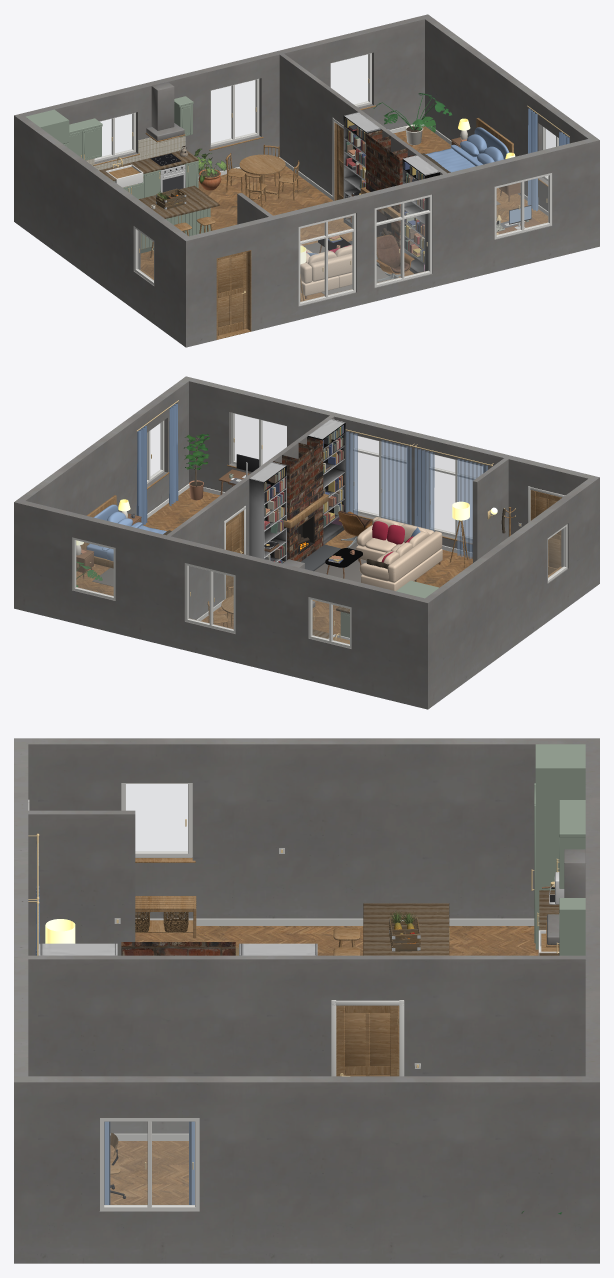
The model's file is cozy-house.glb.
The picture shows the model from 3 angles, top to bottom: view 1: azimuth 30°, elevation 25°; view 2: azimuth 150°, elevation 25°; view 3: azimuth 270°, elevation 25°; orthographic projection. The views are drawn at different scales.
Visible parts, largest first — view 1: SM_Walls_Exterior_Skin, SM_Walls_Plaster, SM_Window_Glass, SM_Window_Frames, SM_Floor_Herringbone, SM_Fireplace, INT_Door_Front_Oak, SM_Kitchen_UpperCabinets, SM_Sofa_L_Boucle, SM_Kitchen_Island_ButcherBlock, SM_Bed_Bedding_Layered, SM_Bookshelf_South_Oak (+19 smaller); view 2: SM_Walls_Exterior_Skin, SM_Walls_Plaster, SM_Window_Glass, SM_Curtains_And_Rods, SM_Window_Frames, SM_Fireplace, SM_Floor_Herringbone, SM_Sofa_L_Boucle, SM_Bookshelf_North_Oak, SM_Bookshelf_South_Oak, SM_Bookshelf_South_Oak_Books_Static, SM_Bookshelf_North_Oak_Books_Static (+11 smaller); view 3: SM_Walls_Plaster, SM_Walls_Exterior_Skin, SM_Window_Glass, SM_Floor_Herringbone, SM_Fridge_TallUnit, SM_Kitchen_UpperCabinets, INT_Door_Bedroom_Oak, SM_Kitchen_Island_ButcherBlock, SM_Window_Frames, SM_Baseboards, SM_Fireplace, SM_Curtains_And_Rods (+6 smaller).
Part boxes in pixels (left/top/right/bottom): SM_Walls_Exterior_Skin: left=14, top=14, right=599, bottom=347; SM_Walls_Plaster: left=55, top=19, right=587, bottom=306; SM_Window_Glass: left=95, top=54, right=555, bottom=301; SM_Window_Frames: left=94, top=53, right=558, bottom=305; SM_Floor_Herringbone: left=140, top=126, right=548, bottom=301; SM_Fireplace: left=348, top=130, right=415, bottom=267; INT_Door_Front_Oak: left=217, top=252, right=246, bottom=335; SM_Kitchen_UpperCabinets: left=69, top=82, right=193, bottom=142; SM_Sofa_L_Boucle: left=300, top=244, right=352, bottom=298; SM_Kitchen_Island_ButcherBlock: left=139, top=185, right=219, bottom=253; SM_Bed_Bedding_Layered: left=421, top=134, right=503, bottom=173; SM_Bookshelf_South_Oak: left=402, top=155, right=439, bottom=273; SM_Walls_Exterior_Skin: left=14, top=376, right=599, bottom=709; SM_Walls_Plaster: left=26, top=381, right=587, bottom=648; SM_Window_Glass: left=76, top=414, right=564, bottom=644; SM_Curtains_And_Rods: left=136, top=400, right=493, bottom=558; SM_Window_Frames: left=72, top=412, right=567, bottom=648; SM_Fireplace: left=273, top=436, right=341, bottom=571; SM_Floor_Herringbone: left=76, top=488, right=472, bottom=635; SM_Sofa_L_Boucle: left=356, top=517, right=442, bottom=591; SM_Bookshelf_North_Oak: left=249, top=462, right=286, bottom=561; SM_Bookshelf_South_Oak: left=308, top=419, right=345, bottom=544; SM_Bookshelf_South_Oak_Books_Static: left=323, top=425, right=343, bottom=526; SM_Bookshelf_North_Oak_Books_Static: left=264, top=468, right=285, bottom=563; SM_Walls_Plaster: left=28, top=744, right=585, bottom=1211; SM_Walls_Exterior_Skin: left=14, top=738, right=599, bottom=1263; SM_Window_Glass: left=104, top=784, right=194, bottom=1205; SM_Floor_Herringbone: left=110, top=926, right=538, bottom=1204; SM_Fridge_TallUnit: left=535, top=744, right=585, bottom=949; SM_Kitchen_UpperCabinets: left=546, top=800, right=585, bottom=955; INT_Door_Bedroom_Oak: left=337, top=1006, right=398, bottom=1076; SM_Kitchen_Island_ButcherBlock: left=363, top=903, right=449, bottom=955; SM_Window_Frames: left=99, top=783, right=199, bottom=1211; SM_Baseboards: left=110, top=918, right=534, bottom=1140; SM_Fireplace: left=121, top=942, right=235, bottom=955; SM_Curtains_And_Rods: left=28, top=833, right=194, bottom=1204.
Bounding box in the file's own units: 11.43 × 2.8 × 8.2.
93 materials, 44 textured.
